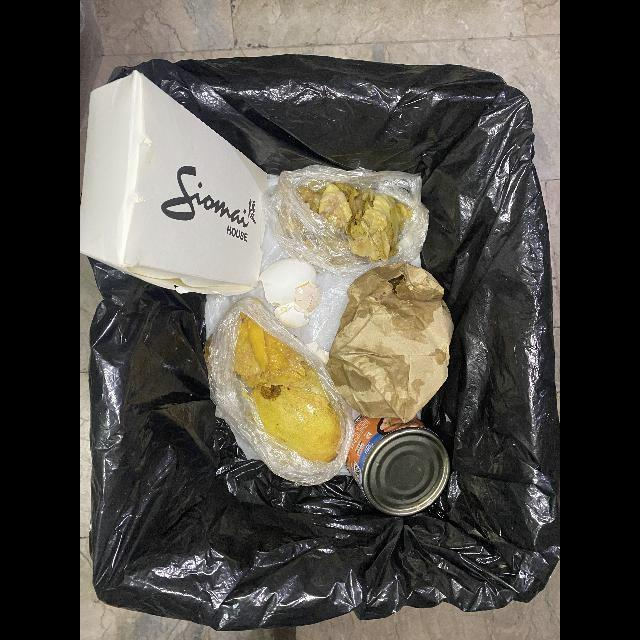aluminum: (346, 415, 451, 517)
cardboard: (80, 71, 266, 297)
left_over_food: (297, 181, 413, 262)
paper: (326, 263, 455, 424)
plastic_bag: (203, 297, 359, 487), (269, 165, 430, 278)
